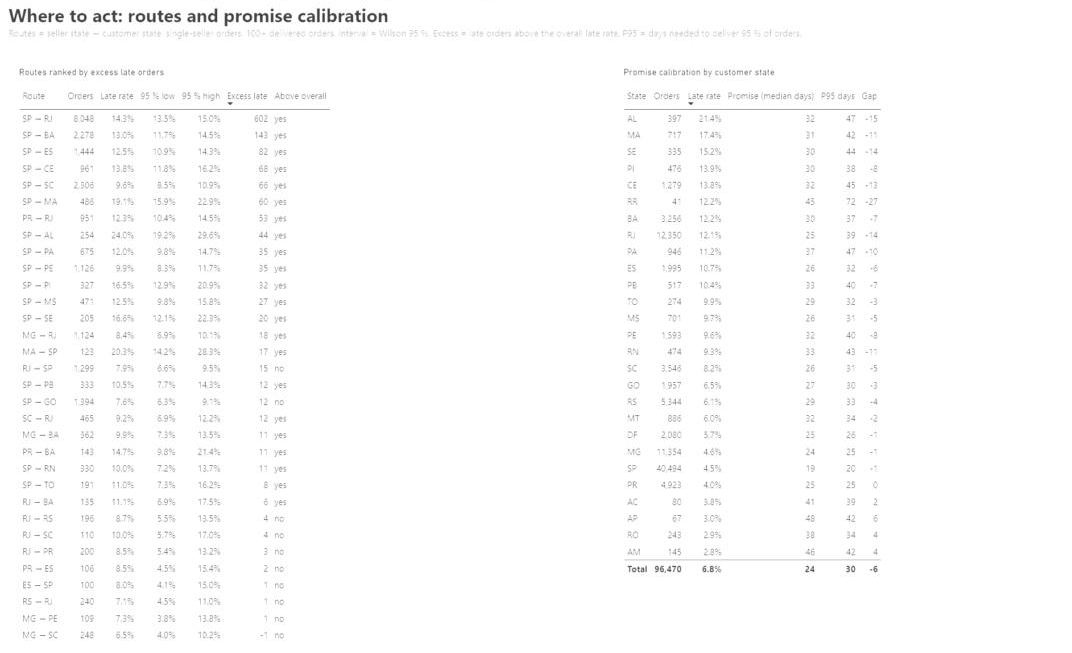

The dashboard page shown, as its layout file describes it:
{"tool":"powerbi","page":{"name":"Route & promise review","canvas":[1920,1080],"ordinal":1},"visuals":[{"type":"textbox","box":[30,10,1860,80],"z":0},{"type":"tableEx","title":"Routes ranked by excess late orders","fields":{"Values":["fact_orders.lane","fact_orders.Delivered Orders","fact_orders.Late Rate","fact_orders.Late Rate CI Low","fact_orders.Late Rate CI High","fact_orders.Excess Late Orders","fact_orders.Above Baseline"]},"box":[30,100,960,960],"z":1},{"type":"tableEx","title":"Promise calibration by customer state","fields":{"Values":["fact_orders.customer_state","fact_orders.Delivered Orders","fact_orders.Late Rate","fact_orders.Median Promised Days","fact_orders.P95 Lead Time (days)","fact_orders.Promise Gap (days)"]},"box":[1010,100,880,960],"z":2}]}

Visuals, with their boxes on the page's 1920x1080 design canvas (x1, y1, x2, y2). These are canvas units, not pixel positions in the 1072x653 screenshot, which may show the page scaled, cropped or inside an application window:
textbox: {"left": 30, "top": 10, "right": 1890, "bottom": 90}
"Routes ranked by excess late orders" tableEx: {"left": 30, "top": 100, "right": 990, "bottom": 1060}
"Promise calibration by customer state" tableEx: {"left": 1010, "top": 100, "right": 1890, "bottom": 1060}
